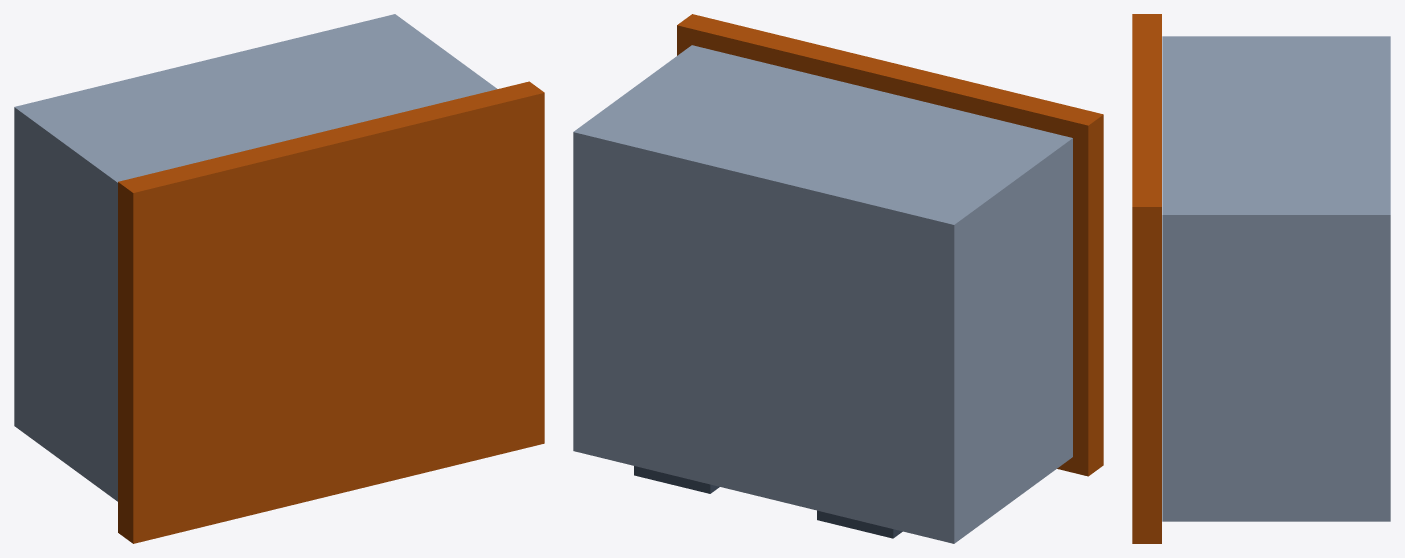
File: building.restroom.glb
The picture shows the model from 3 angles, left to right: view 1: azimuth 30°, elevation 25°; view 2: azimuth 150°, elevation 25°; view 3: azimuth 270°, elevation 25°; orthographic projection. The views are drawn at different scales.
Visible parts, largest first — view 1: building.restroom; view 2: building.restroom; view 3: building.restroom.
Boxes of the visible parts, x1,y1,x2,y2 form: building.restroom: (14, 14, 544, 543); building.restroom: (573, 14, 1103, 543); building.restroom: (1132, 14, 1390, 543).
Size of the model in its own units: 5.4 by 4.4 by 3.06.
